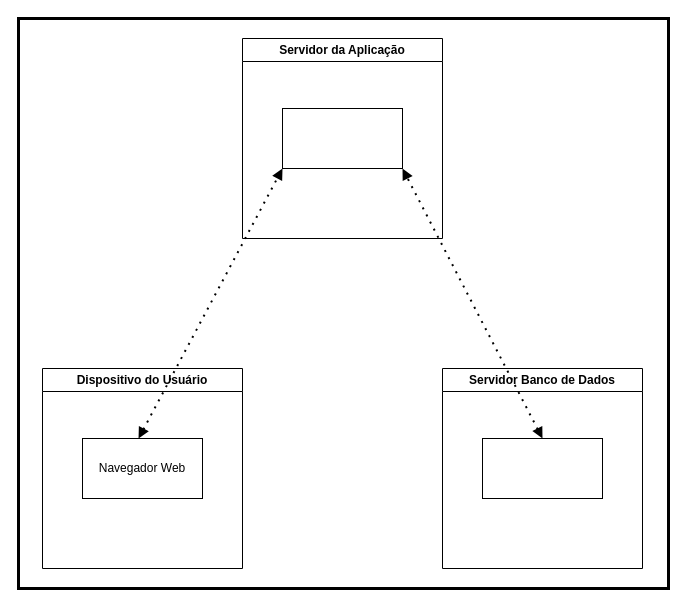
Some shapes in this 687 by 607 pixel diagram are drawn without their labels. Here are the shapes that lost their labels. From the top down, the centre of each, then its label:
the point at 342,138: Aplicação Vercel
the point at 542,468: Adonis.Js
